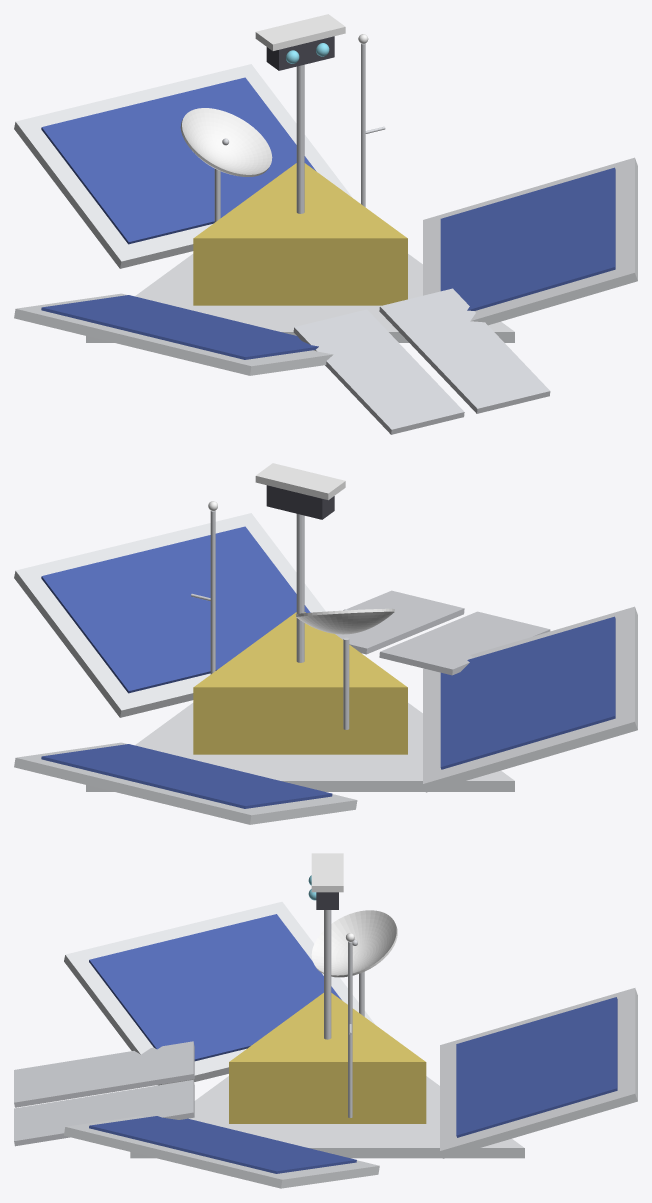
Rendered from pathfinder.glb.
3 views of the same model, one above another, from view 1: azimuth 30°, elevation 25°; view 2: azimuth 150°, elevation 25°; view 3: azimuth 270°, elevation 25° (orthographic). The views are drawn at different scales.
Parts seen in each view (by area): view 1: p0_Solar petals_1, p0_Solar petals_0, p5_Lander body_12, p4_Ramps_10, p5_Lander body_11, p3_Antenna_9, p1_Camera mast_5, p1_Camera mast_2, p1_Camera mast_3, p2_Weather mast_6; view 2: p0_Solar petals_1, p0_Solar petals_0, p5_Lander body_12, p5_Lander body_11, p4_Ramps_10, p1_Camera mast_5, p3_Antenna_9, p1_Camera mast_3, p1_Camera mast_2, p2_Weather mast_6, p3_Antenna_8; view 3: p0_Solar petals_1, p0_Solar petals_0, p5_Lander body_12, p4_Ramps_10, p5_Lander body_11, p3_Antenna_9, p1_Camera mast_5, p1_Camera mast_2, p2_Weather mast_6.
Boxes of the visible parts, x1,y1,x2,y2 form: p0_Solar petals_1: (41,77,615,359); p0_Solar petals_0: (14,64,637,375); p5_Lander body_12: (193,163,407,305); p4_Ramps_10: (293,288,550,434); p5_Lander body_11: (86,254,514,342); p3_Antenna_9: (180,108,272,176); p1_Camera mast_5: (255,14,345,50); p1_Camera mast_2: (296,64,304,213); p1_Camera mast_3: (266,36,334,70); p2_Weather mast_6: (361,43,385,206); p0_Solar petals_1: (41,526,615,808); p0_Solar petals_0: (14,513,637,824); p5_Lander body_12: (193,612,407,754); p5_Lander body_11: (86,703,514,791); p4_Ramps_10: (335,590,550,675); p1_Camera mast_5: (255,463,345,500); p3_Antenna_9: (295,608,394,634); p1_Camera mast_3: (266,485,334,519); p1_Camera mast_2: (296,514,304,662); p2_Weather mast_6: (191,510,215,674); p3_Antenna_8: (343,609,349,729); p0_Solar petals_1: (89,914,617,1173); p0_Solar petals_0: (64,902,637,1188); p5_Lander body_12: (229,993,426,1123); p4_Ramps_10: (14,1041,194,1146); p5_Lander body_11: (130,1076,524,1158); p3_Antenna_9: (311,910,397,977); p1_Camera mast_5: (311,853,343,892); p1_Camera mast_2: (324,910,331,1039); p2_Weather mast_6: (348,941,352,1117).
Bounding box in the file's own units: 2.91 × 1.17 × 2.74.
